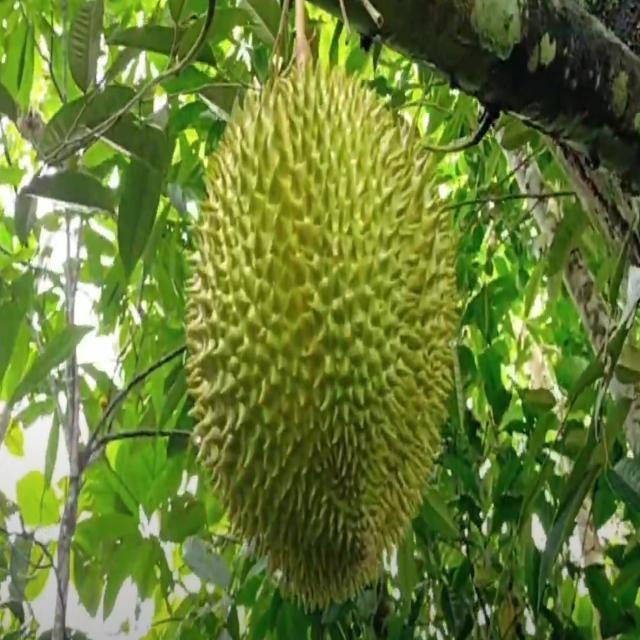immature: (185, 56, 459, 612)
